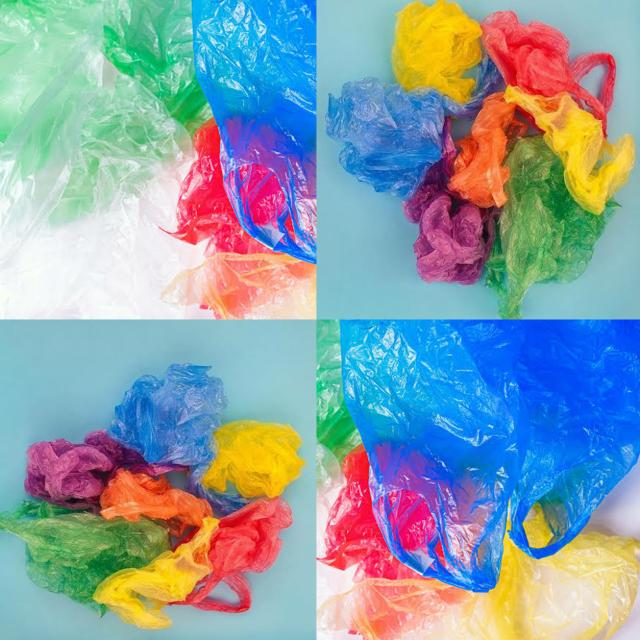plastik: (341, 321, 640, 593), (0, 0, 211, 318), (318, 533, 640, 640), (192, 0, 316, 263), (486, 136, 619, 318), (0, 502, 171, 616), (481, 11, 616, 135), (504, 86, 634, 214), (403, 119, 495, 285), (327, 77, 445, 200), (320, 445, 425, 582), (93, 516, 219, 630), (175, 497, 292, 612), (107, 364, 227, 466), (24, 430, 172, 509), (162, 253, 316, 319), (392, 0, 482, 104), (203, 420, 305, 498), (448, 92, 515, 208), (100, 469, 212, 536), (316, 319, 361, 462)
